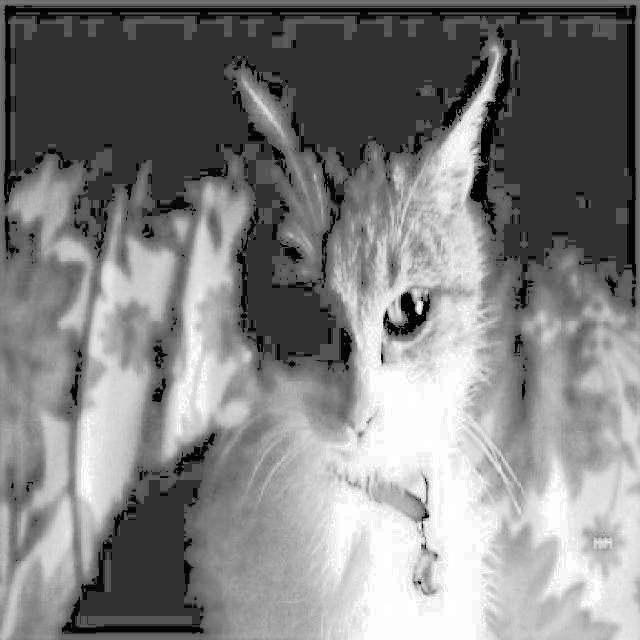Cat: (53, 32, 510, 640)
